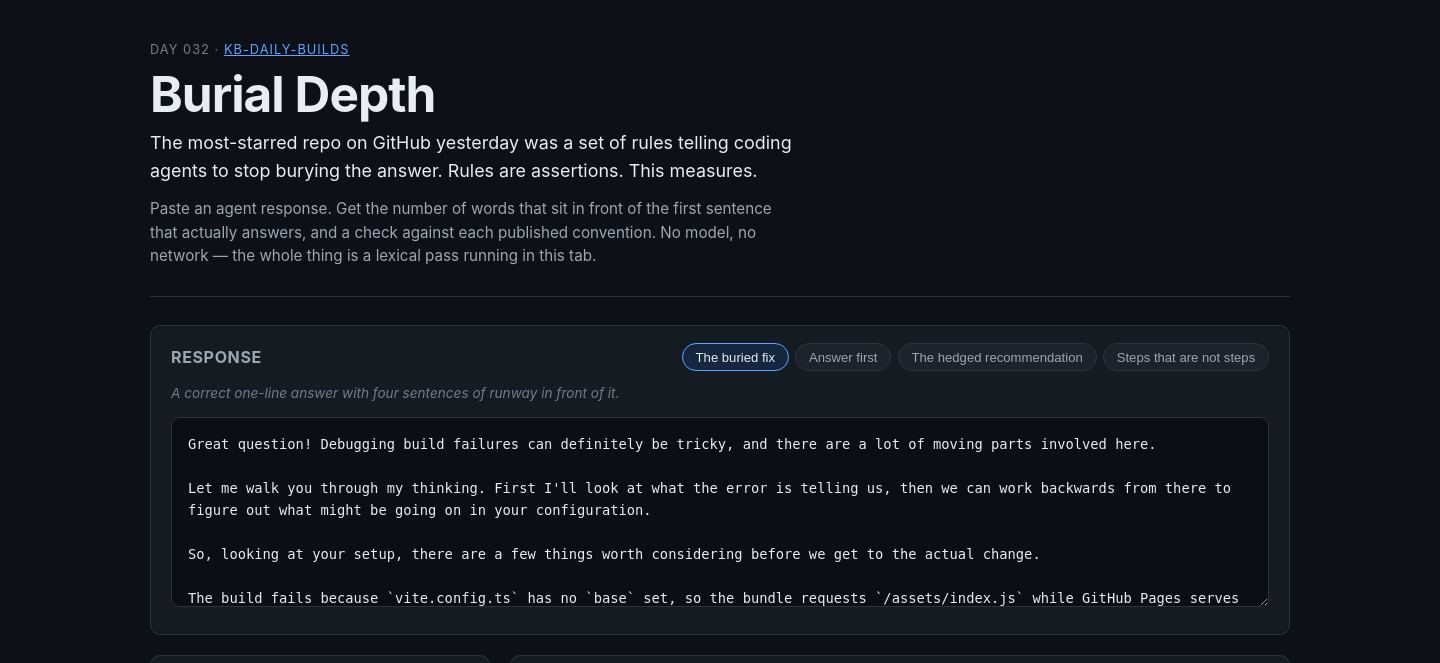
Test: App › shows the trimmed response with the deletable roles gone
The image size is (1440, 663).
Replace the text in the text box named "response to analyse" with "Great question! Run `npm ci`. Hope this helps!" at (720, 512), box [171,417,1269,607]
(page scrolled)
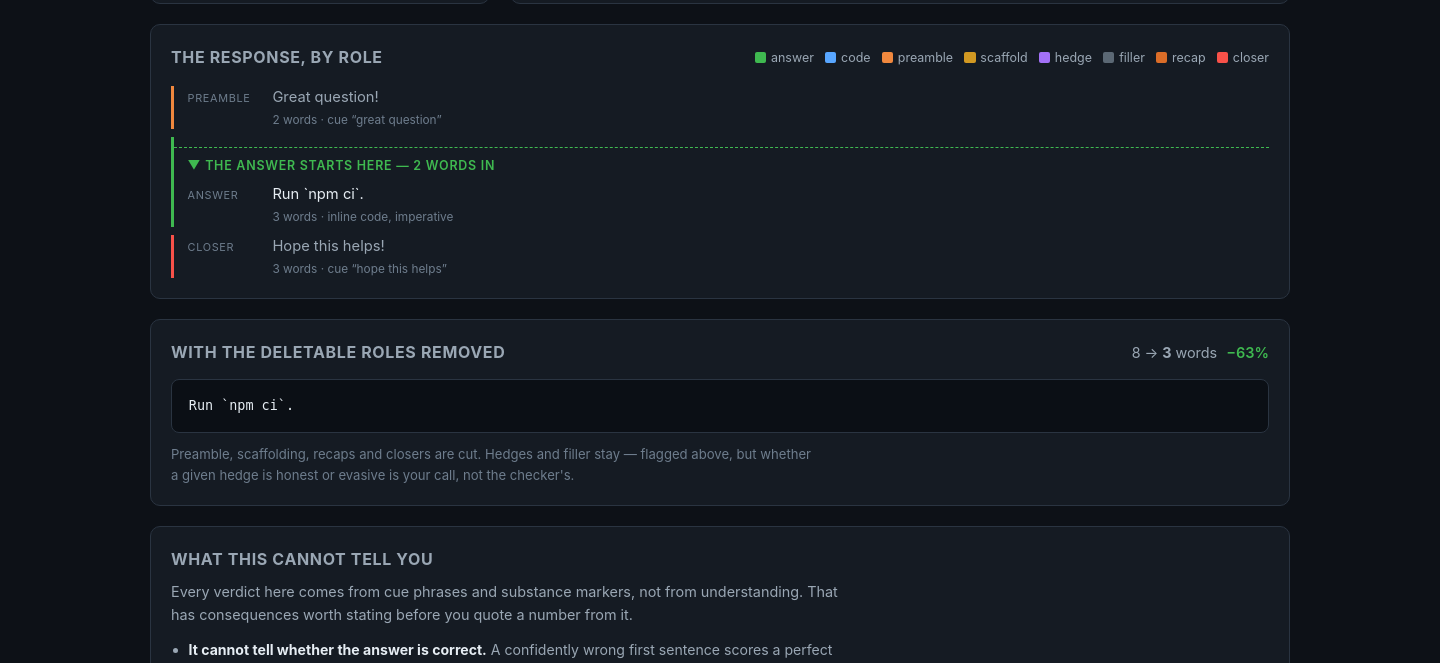
Expected: the element with class "trimmed__body" does not show "Great question"
Expected: the text with class "trimmed__body" shows "npm ci", [189,398,294,413]
